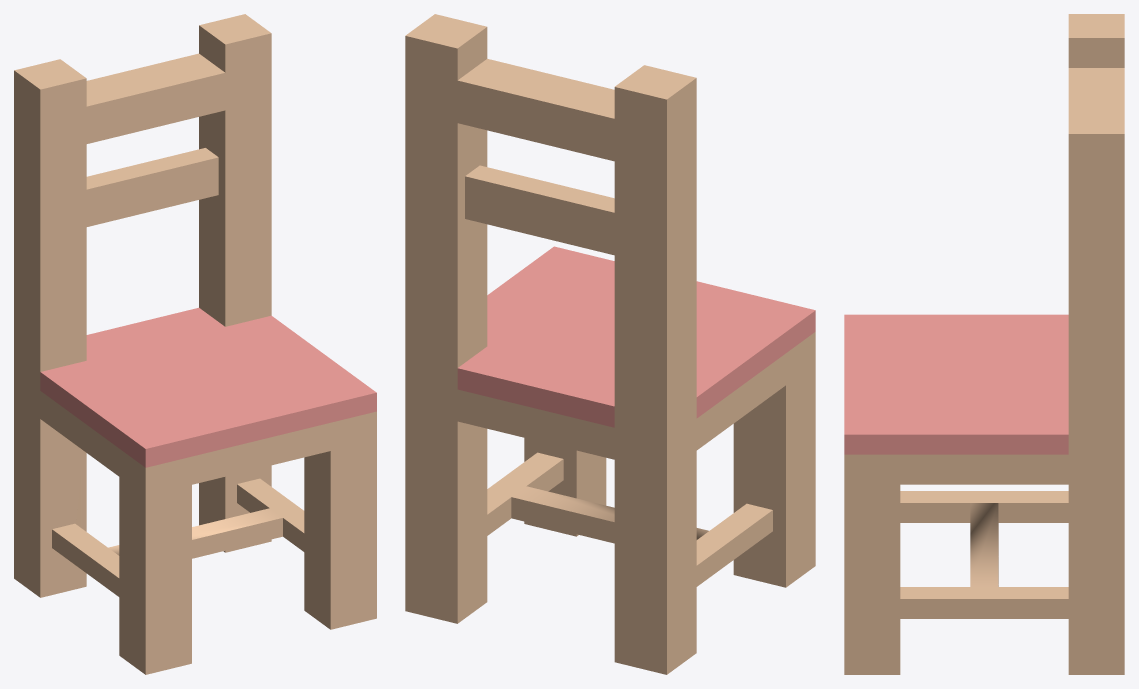
The model's file is Chair Cushion.fbx.
3 renders of one model, left to right at view 1: azimuth 30°, elevation 25°; view 2: azimuth 150°, elevation 25°; view 3: azimuth 270°, elevation 25°, orthographic. The views are drawn at different scales.
Parts seen in each view (by area): view 1: chairCushion; view 2: chairCushion; view 3: chairCushion.
Part boxes in pixels (x1=…): chairCushion: x1=14, y1=14, x2=376, y2=674; chairCushion: x1=405, y1=14, x2=815, y2=674; chairCushion: x1=844, y1=14, x2=1124, y2=674.
Bounding box in the file's own units: 42.24 × 88.77 × 41.64.
